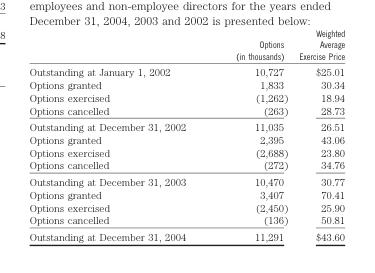table: (28, 28, 344, 242)
table column: (28, 28, 210, 242), (210, 28, 293, 242), (293, 28, 344, 242)
table column header: (28, 28, 344, 63)
table row: (28, 28, 344, 63), (28, 103, 344, 118), (28, 158, 344, 173), (28, 213, 344, 228), (28, 63, 344, 77), (28, 118, 344, 132), (28, 173, 344, 187), (28, 228, 344, 242), (28, 77, 344, 90), (28, 90, 344, 103), (28, 132, 344, 145), (28, 145, 344, 158), (28, 187, 344, 200), (28, 200, 344, 213)
